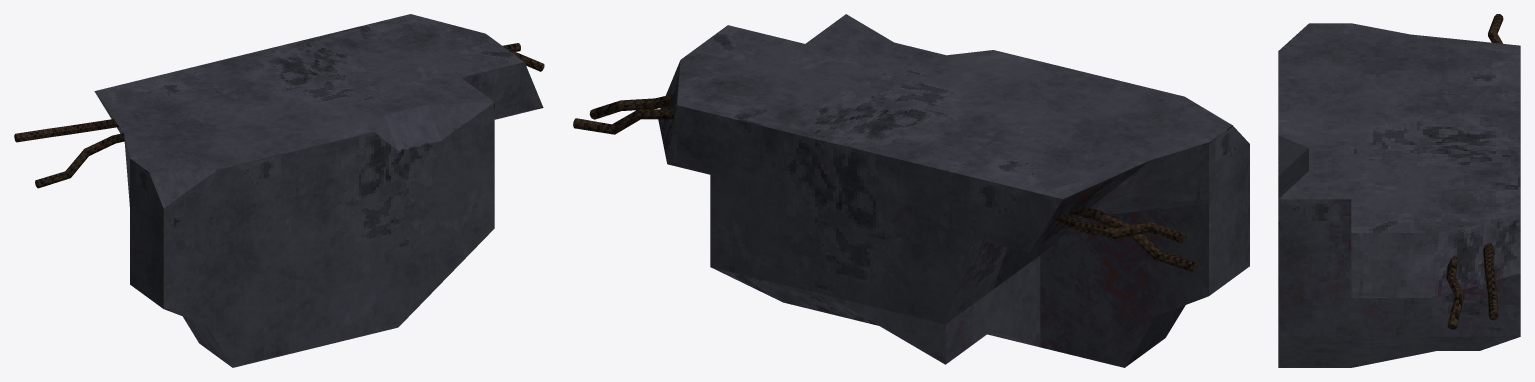
File: debry_00.glb
3 views of the same model, side by side, from view 1: azimuth 30°, elevation 25°; view 2: azimuth 150°, elevation 25°; view 3: azimuth 270°, elevation 25° (orthographic). The views are drawn at different scales.
Visible parts, largest first — view 1: debry_00; view 2: debry_00; view 3: debry_00.
Part boxes in pixels (x1,y1,x2,y2): debry_00: [14, 14, 544, 367]; debry_00: [573, 14, 1249, 367]; debry_00: [1278, 14, 1520, 367].
Size of the model in its own units: 5.26 by 2 by 2.
Materials: 1 (1 with a texture image).
